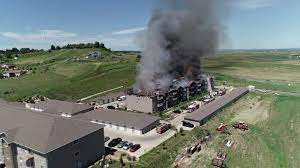smoke: (124, 1, 228, 87)
